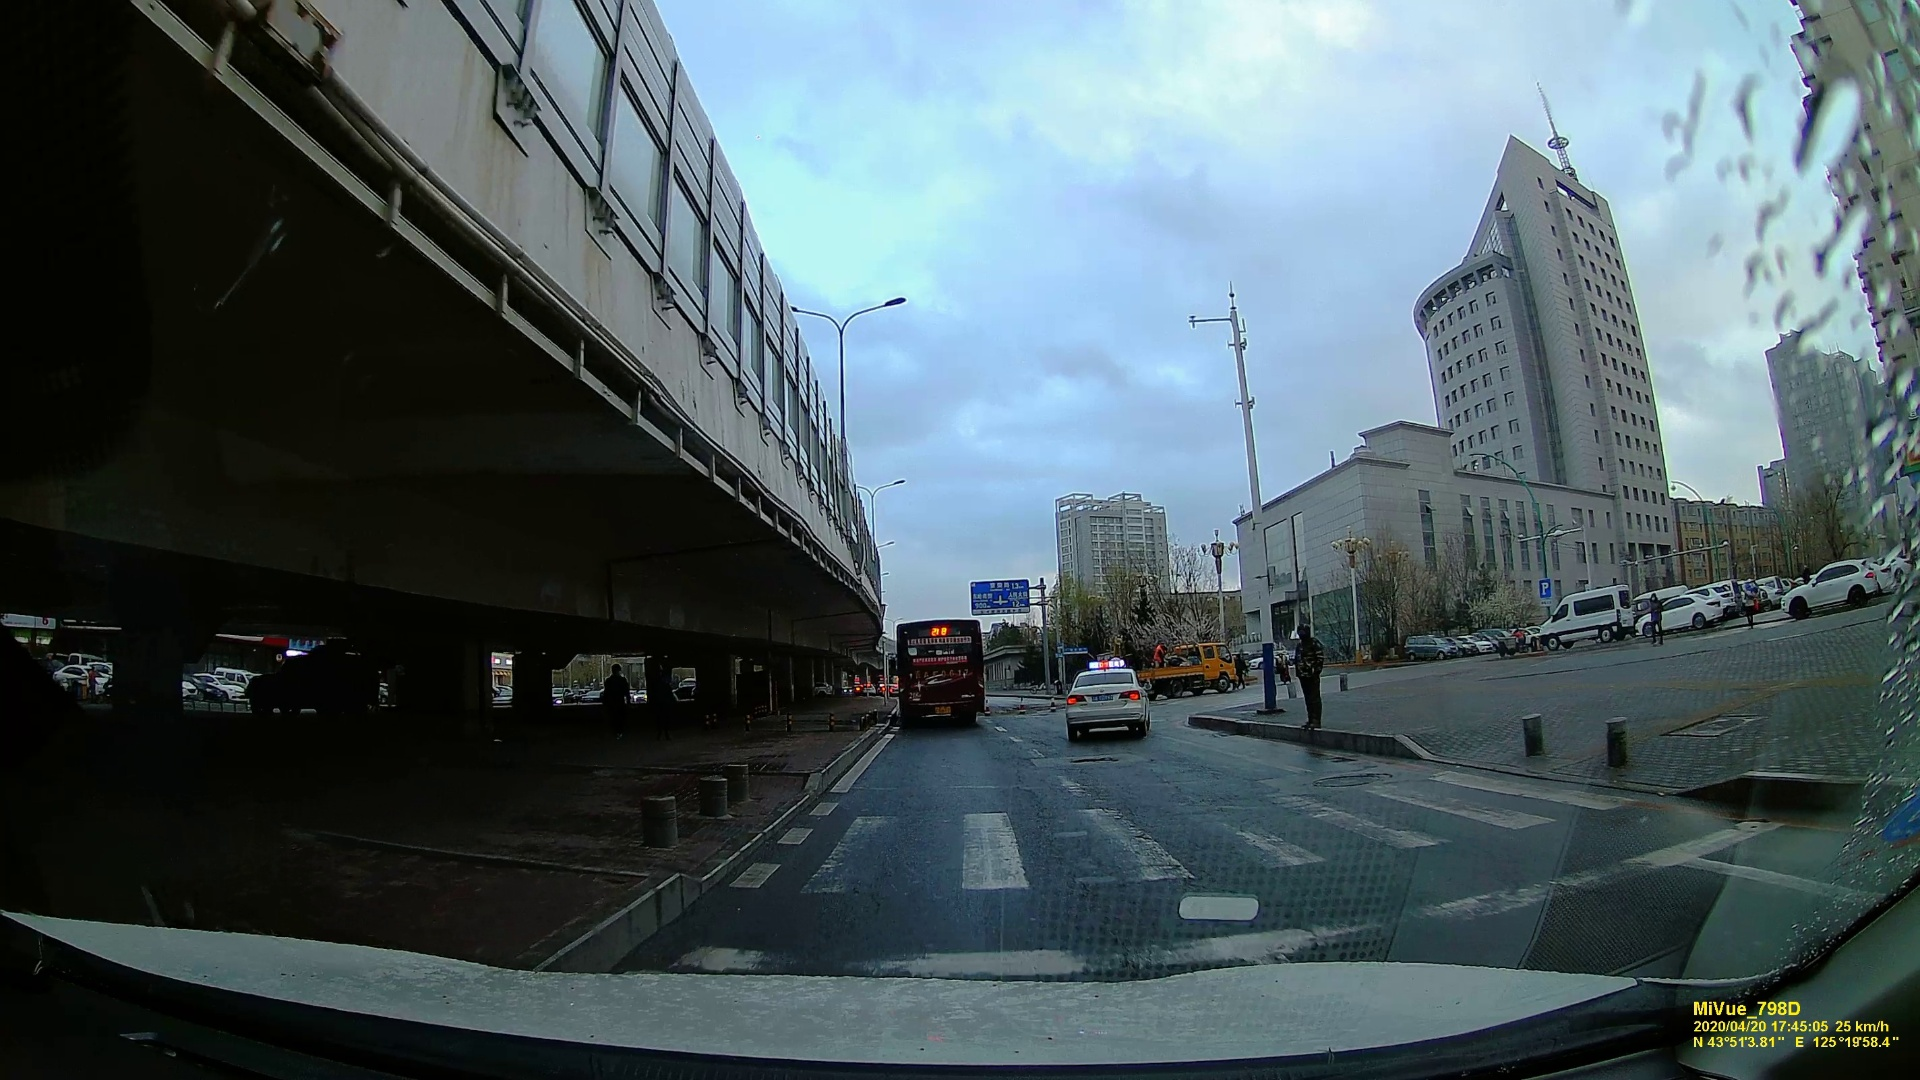bus: (894, 617, 988, 726)
minibus: (1531, 589, 1633, 648)
person: (1293, 626, 1329, 729), (1648, 591, 1666, 650)
traffic_sign: (968, 581, 1029, 613), (1537, 578, 1549, 601)
truck: (1140, 641, 1230, 699)
vehicle: (1064, 664, 1154, 740), (1786, 555, 1883, 614)
